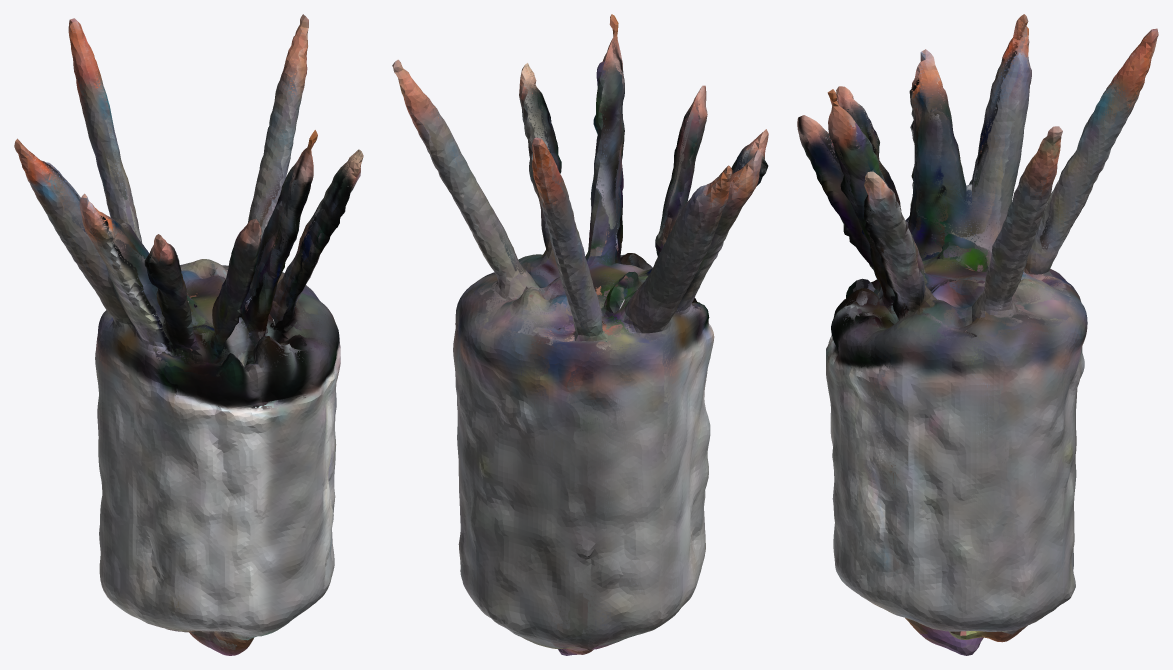
File: Pen_holder_mesh.glb
3 renders of one model, left to right at view 1: azimuth 30°, elevation 25°; view 2: azimuth 150°, elevation 25°; view 3: azimuth 270°, elevation 25°, orthographic. The views are drawn at different scales.
Size of the model in its own units: 1.05 by 1.87 by 1.03.
1 material, 1 textured.
